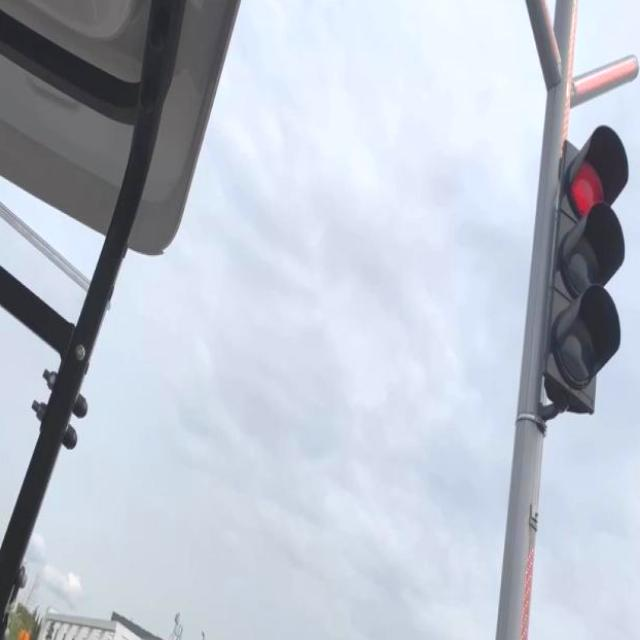kirmizi: (544, 125, 628, 414)
